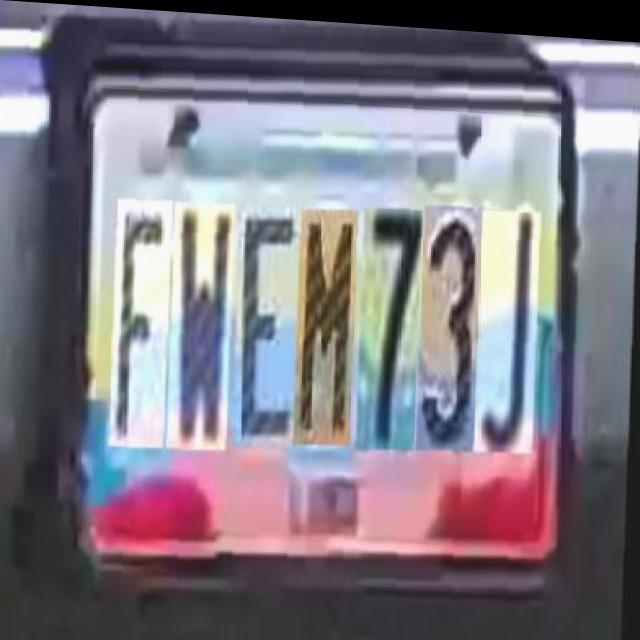3: (418, 190, 482, 441)
7: (358, 194, 421, 443)
e: (233, 196, 300, 443)
f: (110, 193, 171, 447)
j: (476, 194, 540, 442)
m: (294, 197, 356, 439)
w: (168, 195, 234, 448)
